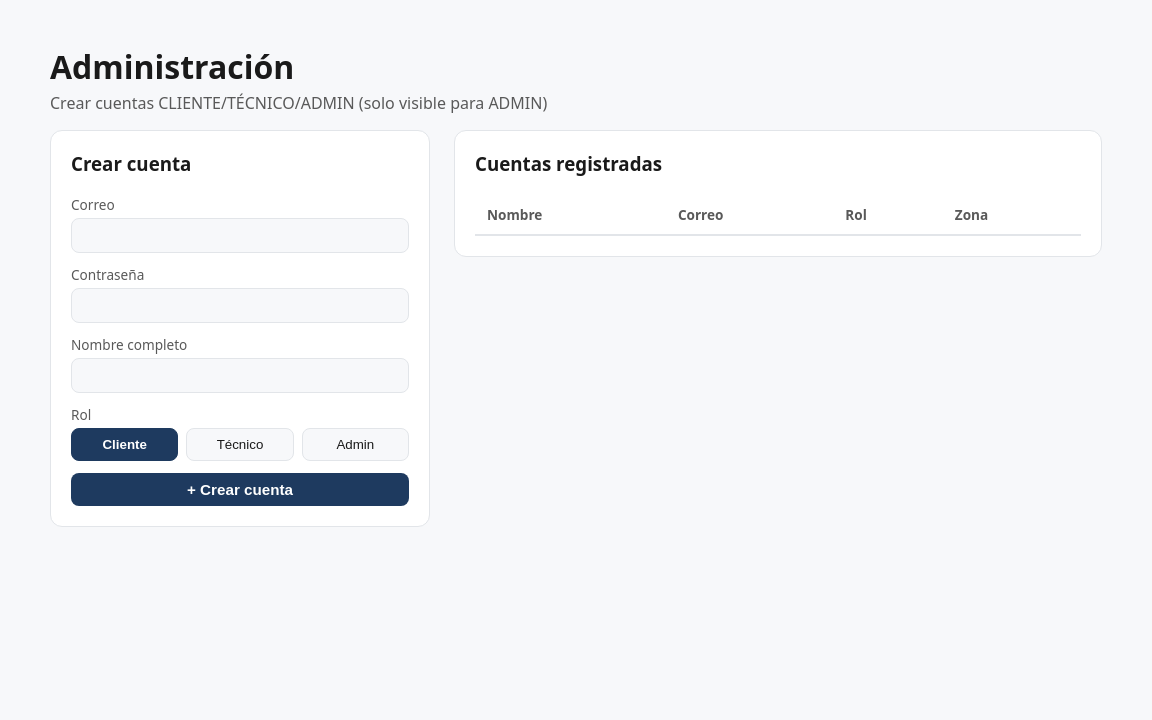
Scenario: AdminPage › crea una cuenta y refresca la lista
The width and height of the screenshot is (1152, 720).
Type "nuevo@test.com" into the field labelled "Correo" at (240, 236), box x1=71 y1=218 x2=409 y2=253
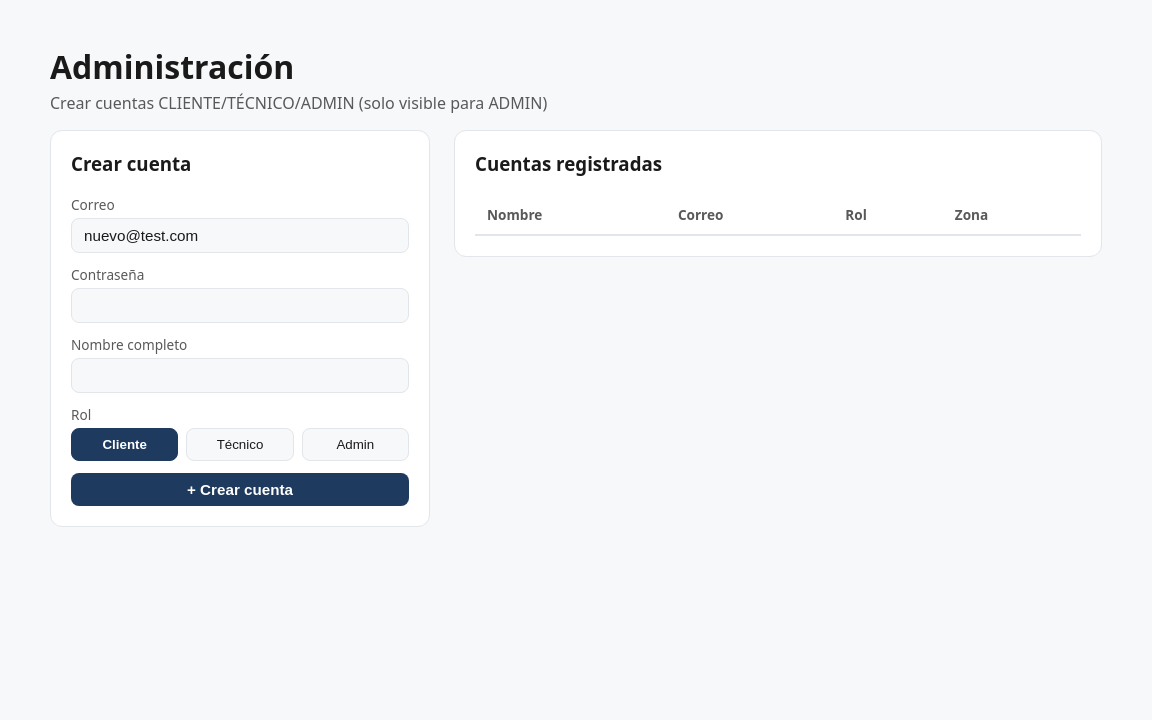
Type "Passw0rd!" into the password field labelled "Contraseña" at (240, 306), box x1=71 y1=288 x2=409 y2=323
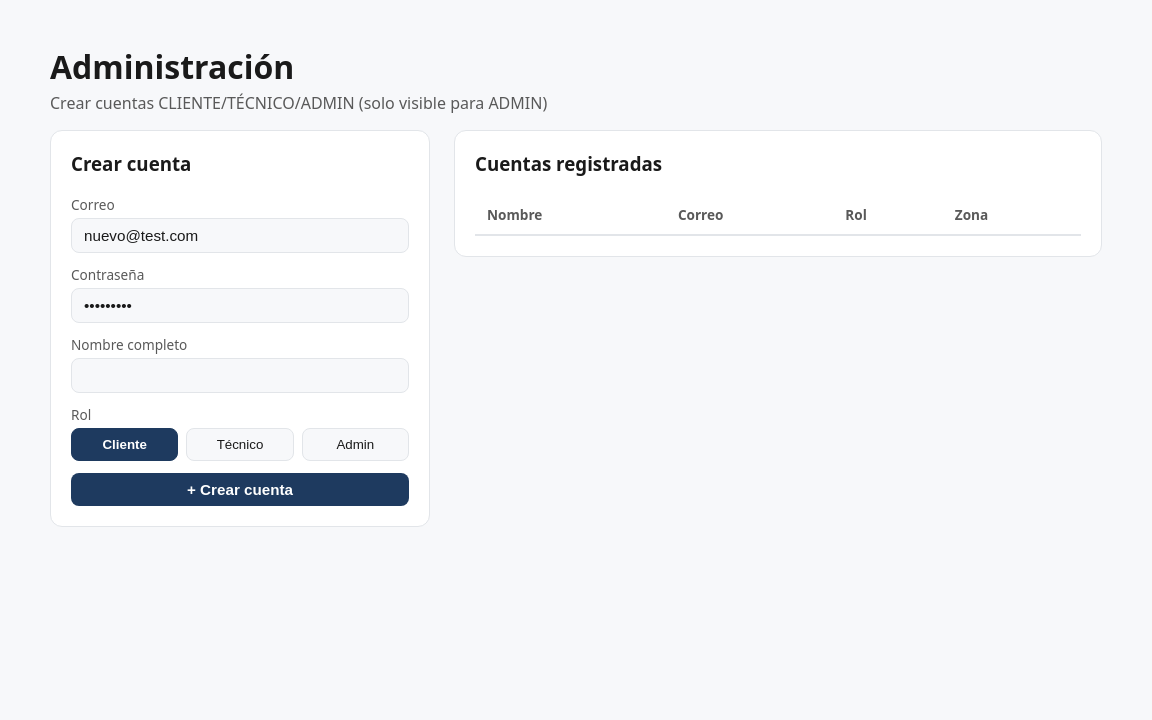
Type "Cliente Nuevo" into the field labelled "Nombre completo" at (240, 376), box x1=71 y1=358 x2=409 y2=393
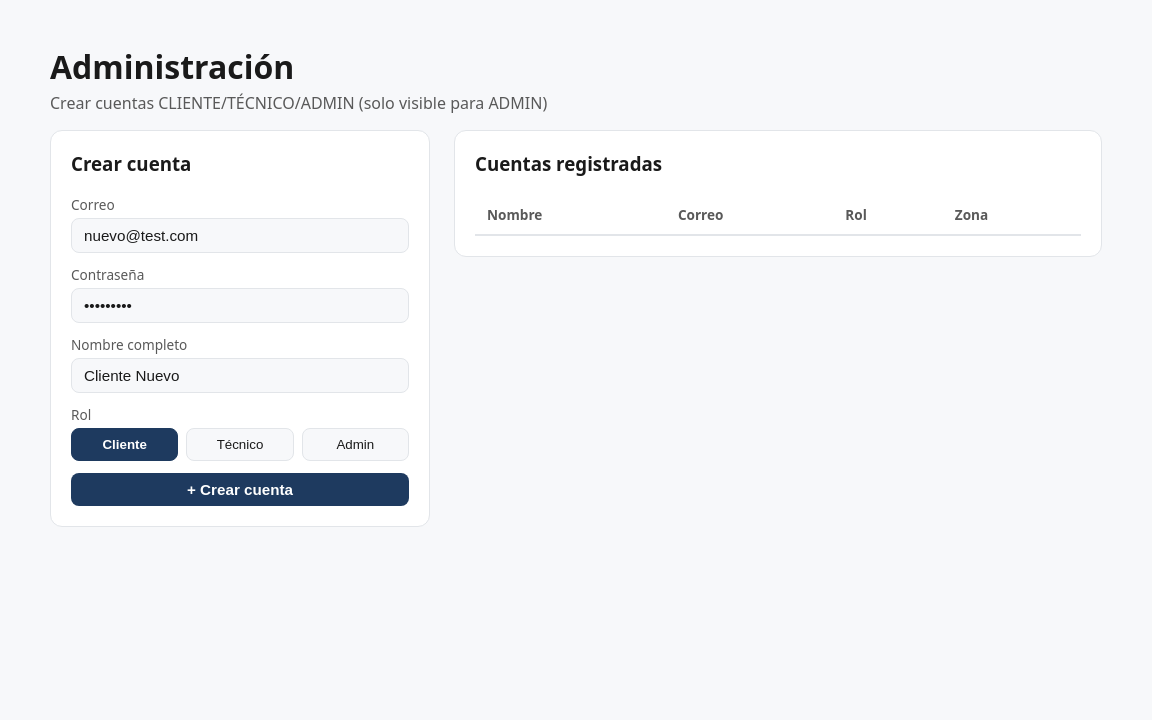
Click the button "+ Crear cuenta" at (240, 490), box x1=71 y1=473 x2=409 y2=506
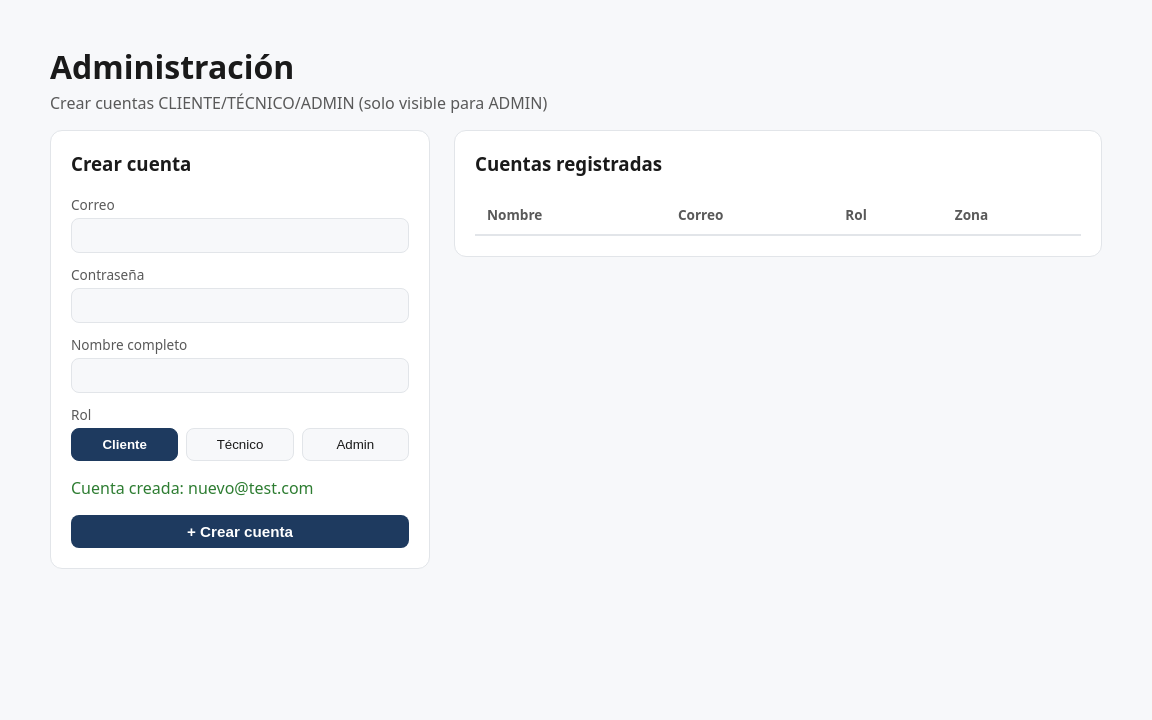
Check: the text "Cuenta creada: nuevo@test.com" is shown, box x1=71 y1=477 x2=314 y2=499
